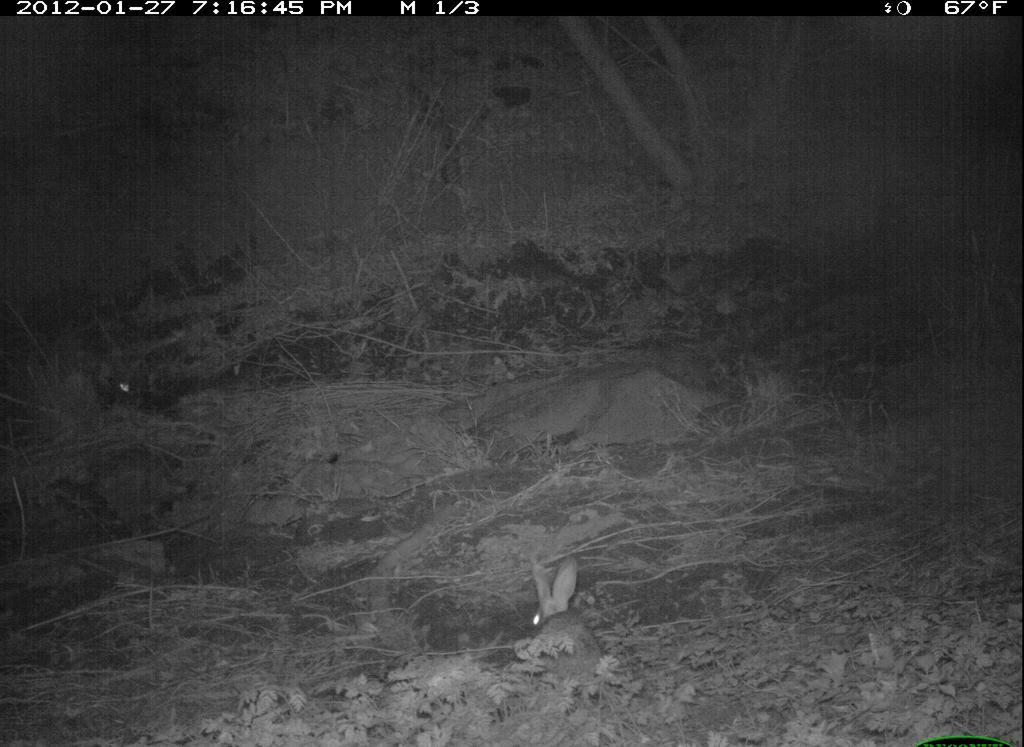rabbit: (518, 557, 617, 683)
